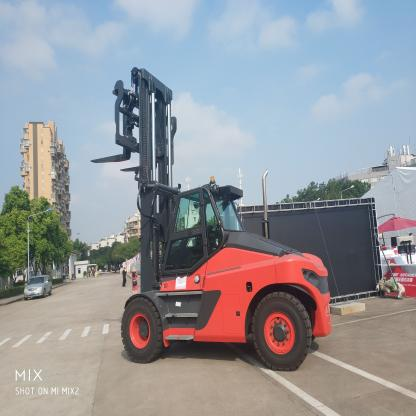forklift: (112, 66, 332, 374)
